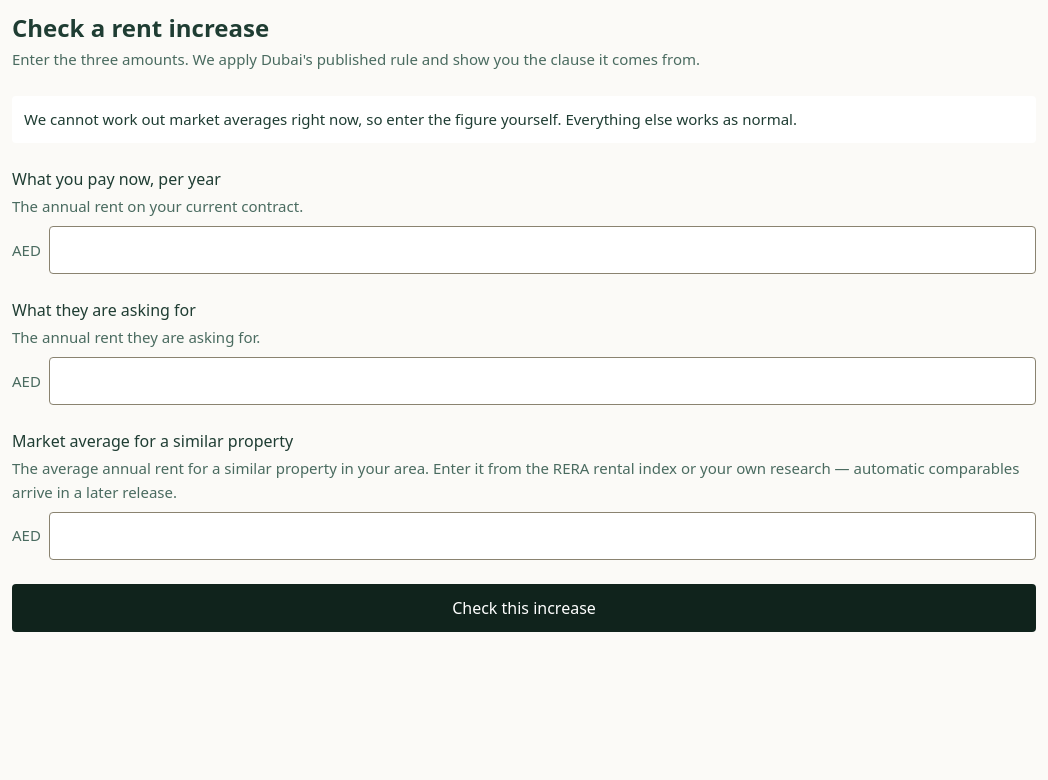
Test case: Checker › case 1 — not permitted: says so and shows the ceiling
Type "80000" into the field labelled "What you pay now, per year" at (542, 250), box [49,226,1036,274]
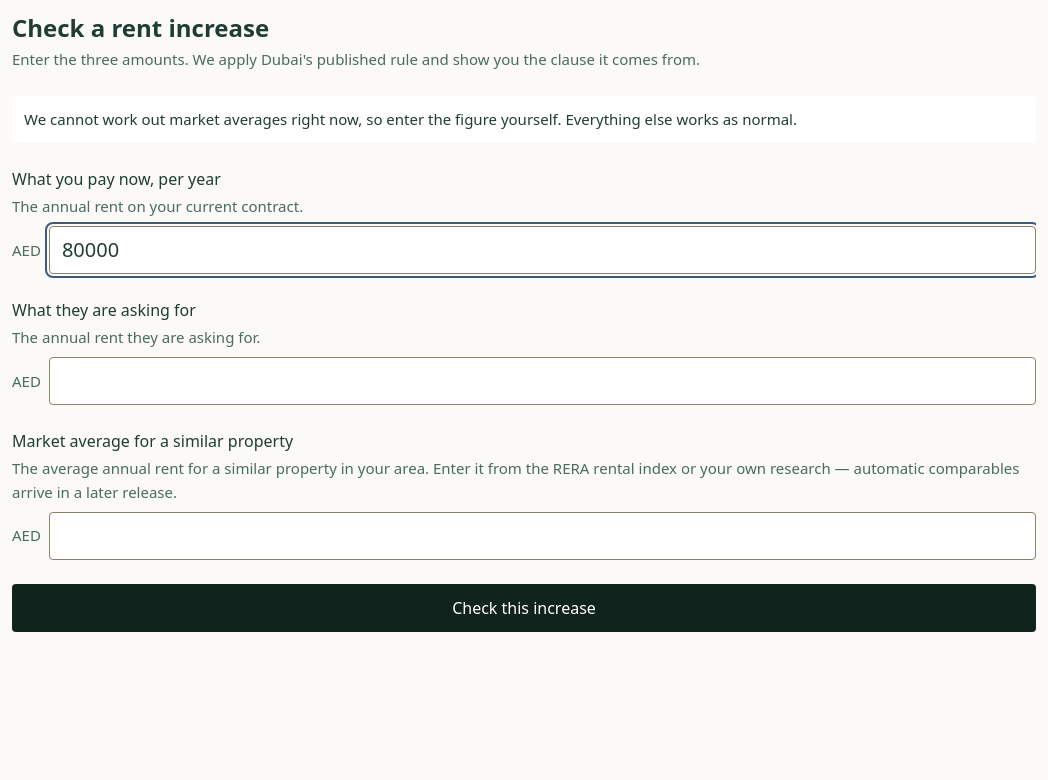
Type "96000" into the field labelled "What they are asking for" at (542, 381), box [49,357,1036,405]
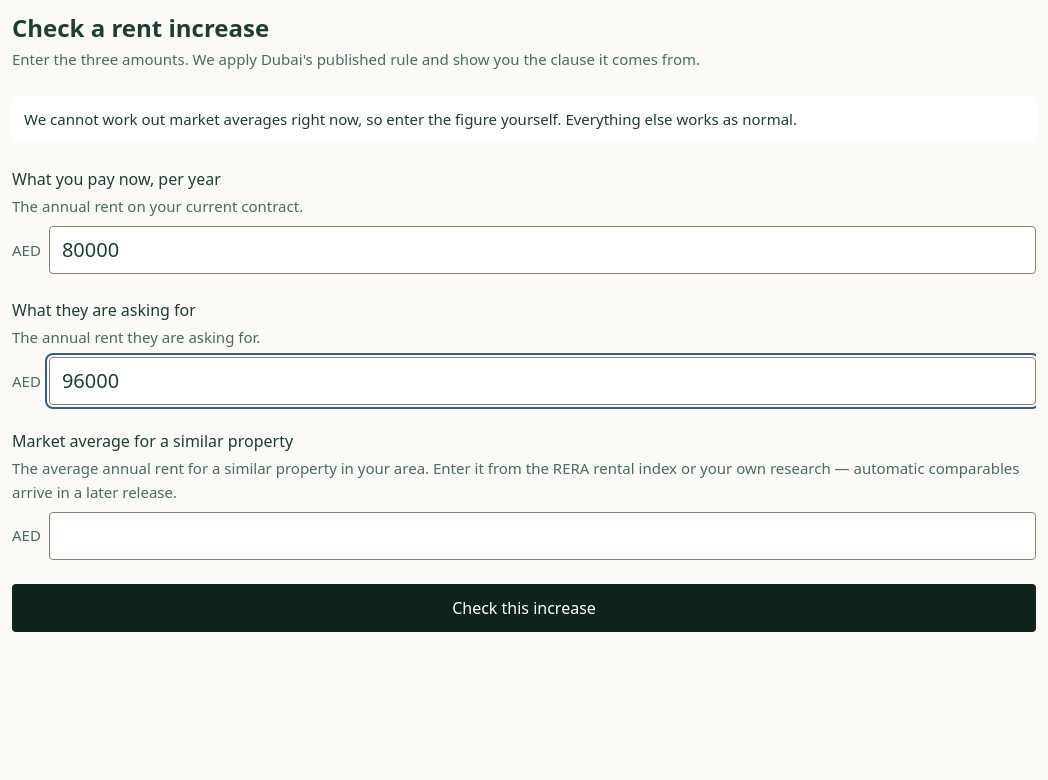
Type "87000" into the field labelled "Market average for a similar property" at (542, 536), box [49,512,1036,560]
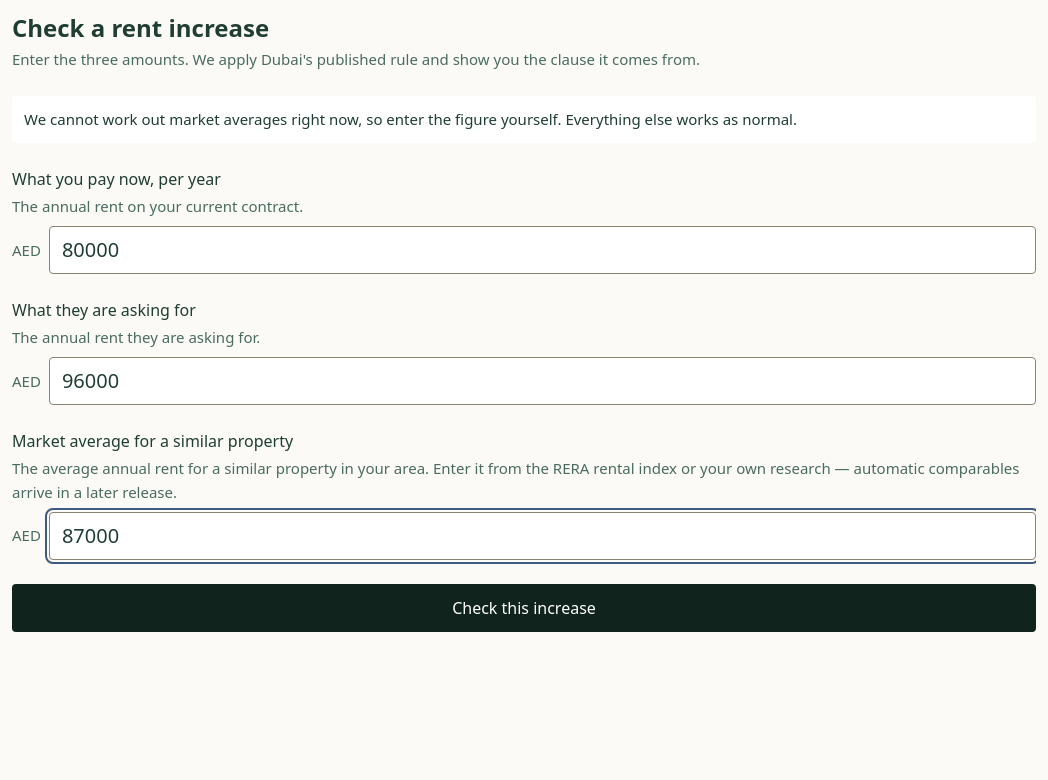
Click the button "Check this increase" at (524, 608), box [12,584,1036,632]
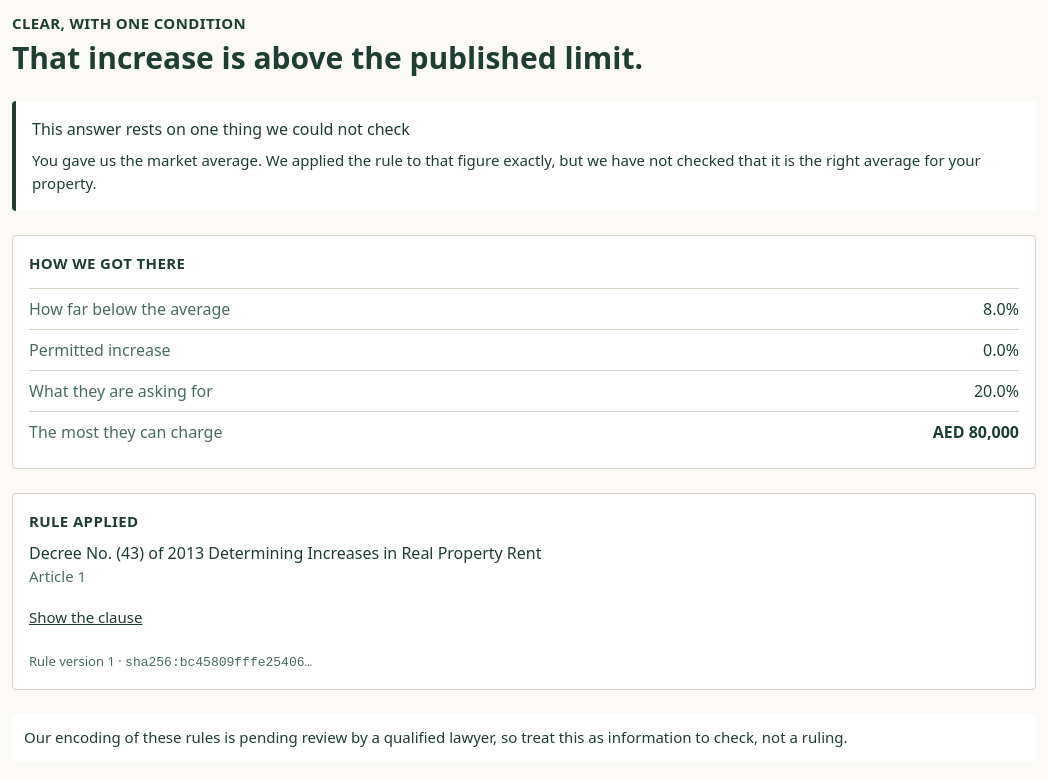
Expected: the heading "That increase is above the published limit." is shown, [12,37,643,78]
Expected: the text "AED 80,000" is shown, [933,420,1019,444]
Expected: the text "0.0%" is shown, [983,338,1019,362]
